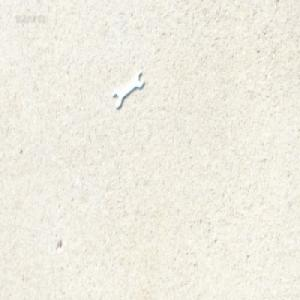Wrench: (112, 69, 145, 109)
